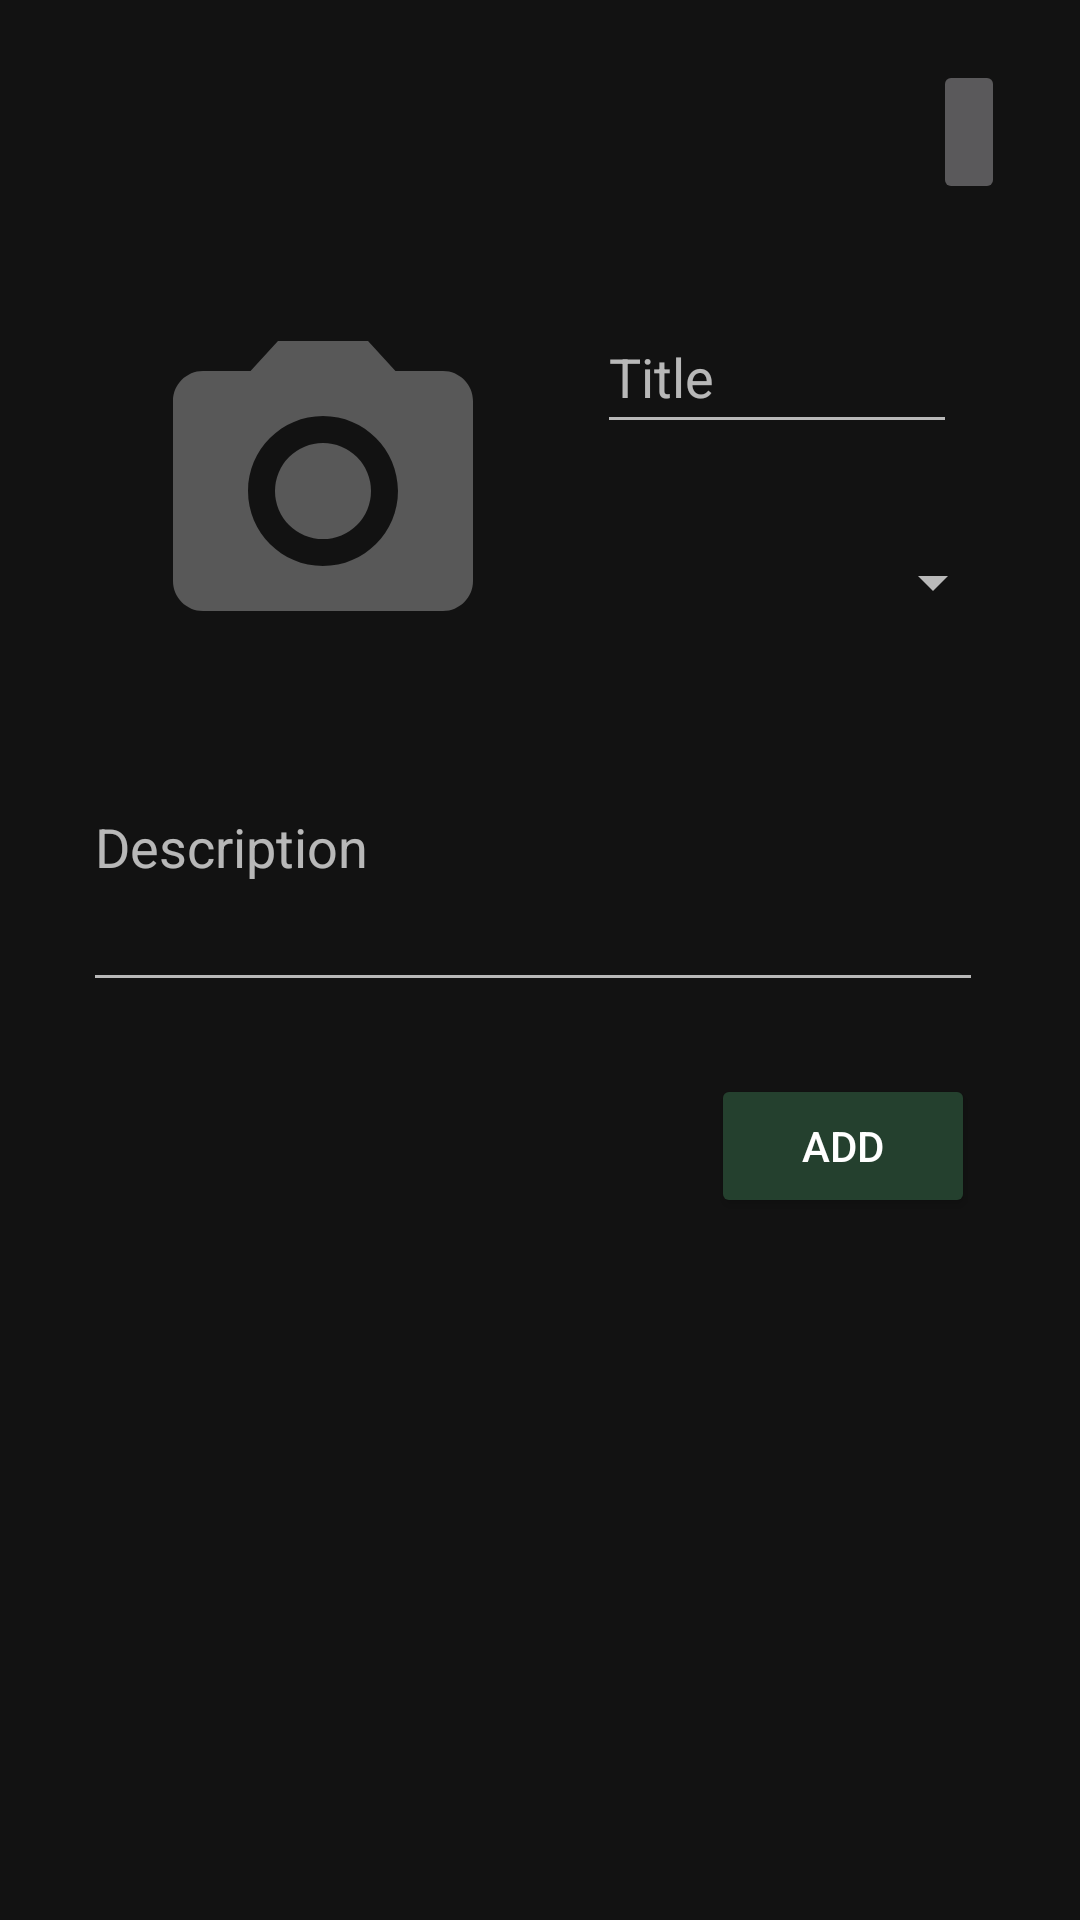

Named icons in this screenshot (1080x1920) and their centers, point (x, y):
photo camera: point (323, 476)
